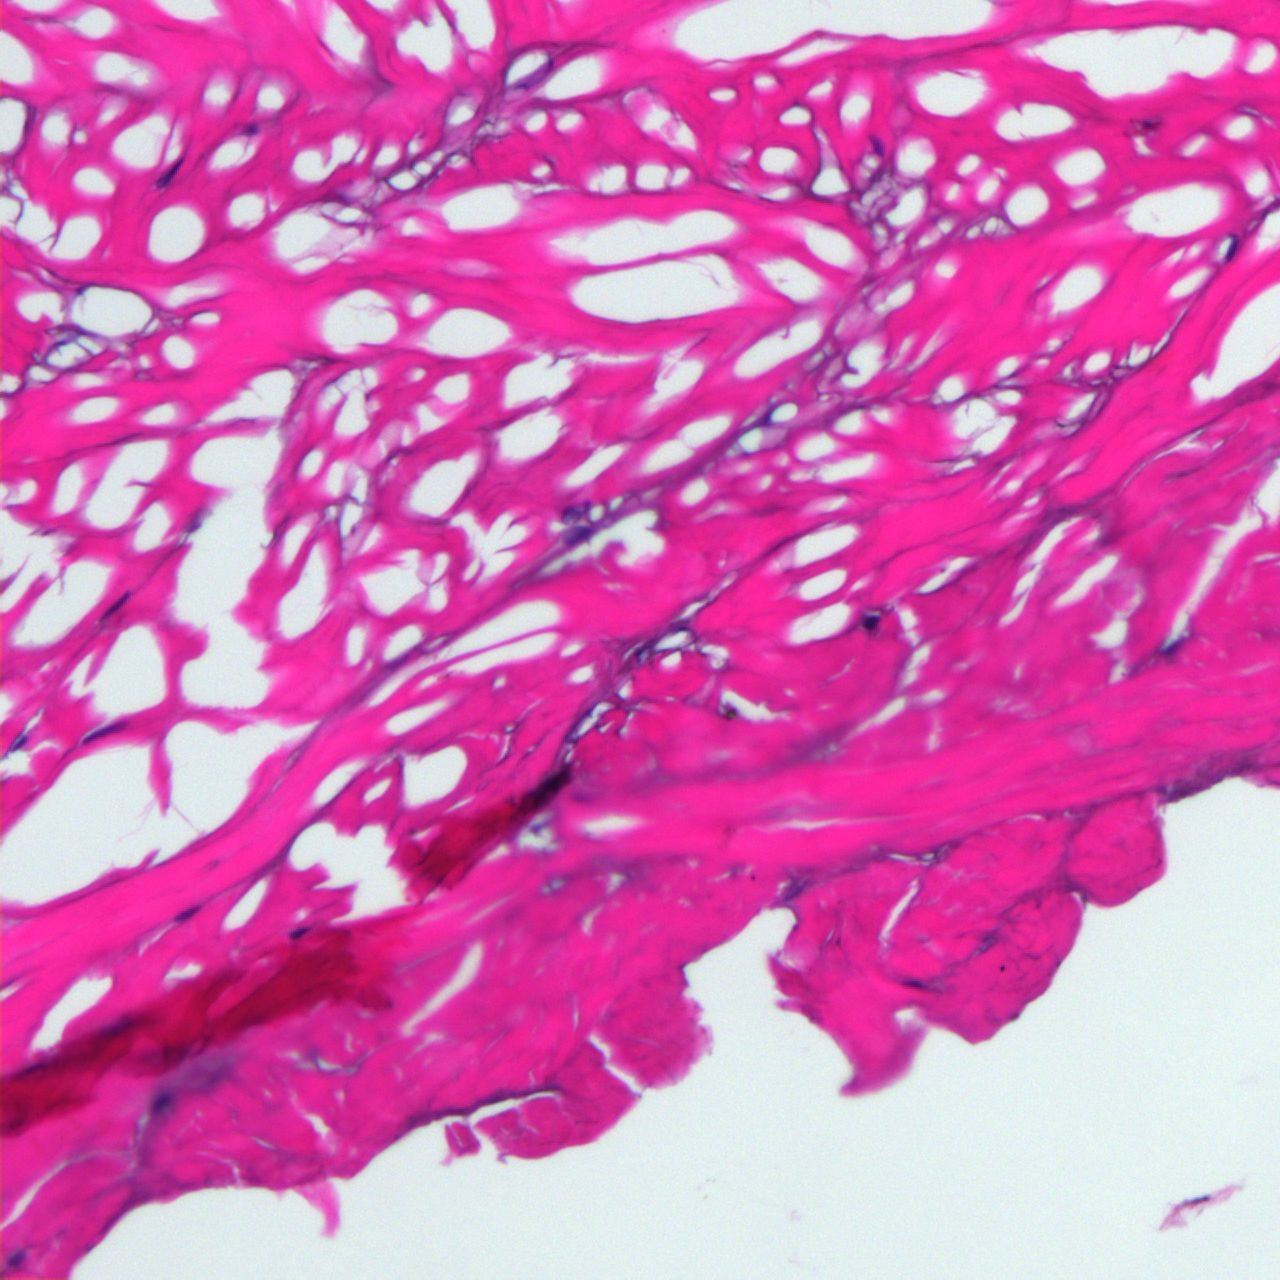nucleus-HE: (80, 717, 125, 745), (561, 524, 594, 550), (104, 588, 132, 617), (171, 900, 200, 926), (1223, 236, 1241, 264), (287, 921, 309, 942), (862, 611, 881, 631), (903, 976, 925, 990), (1000, 965, 1005, 971)
